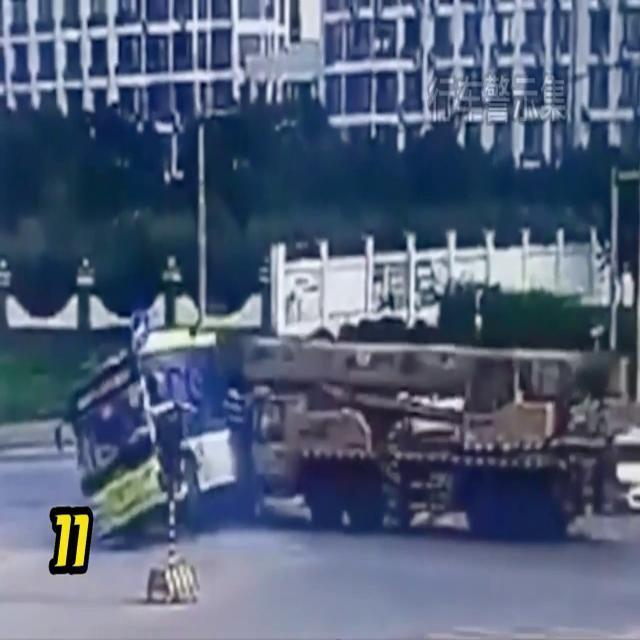accident: (66, 332, 602, 546)
